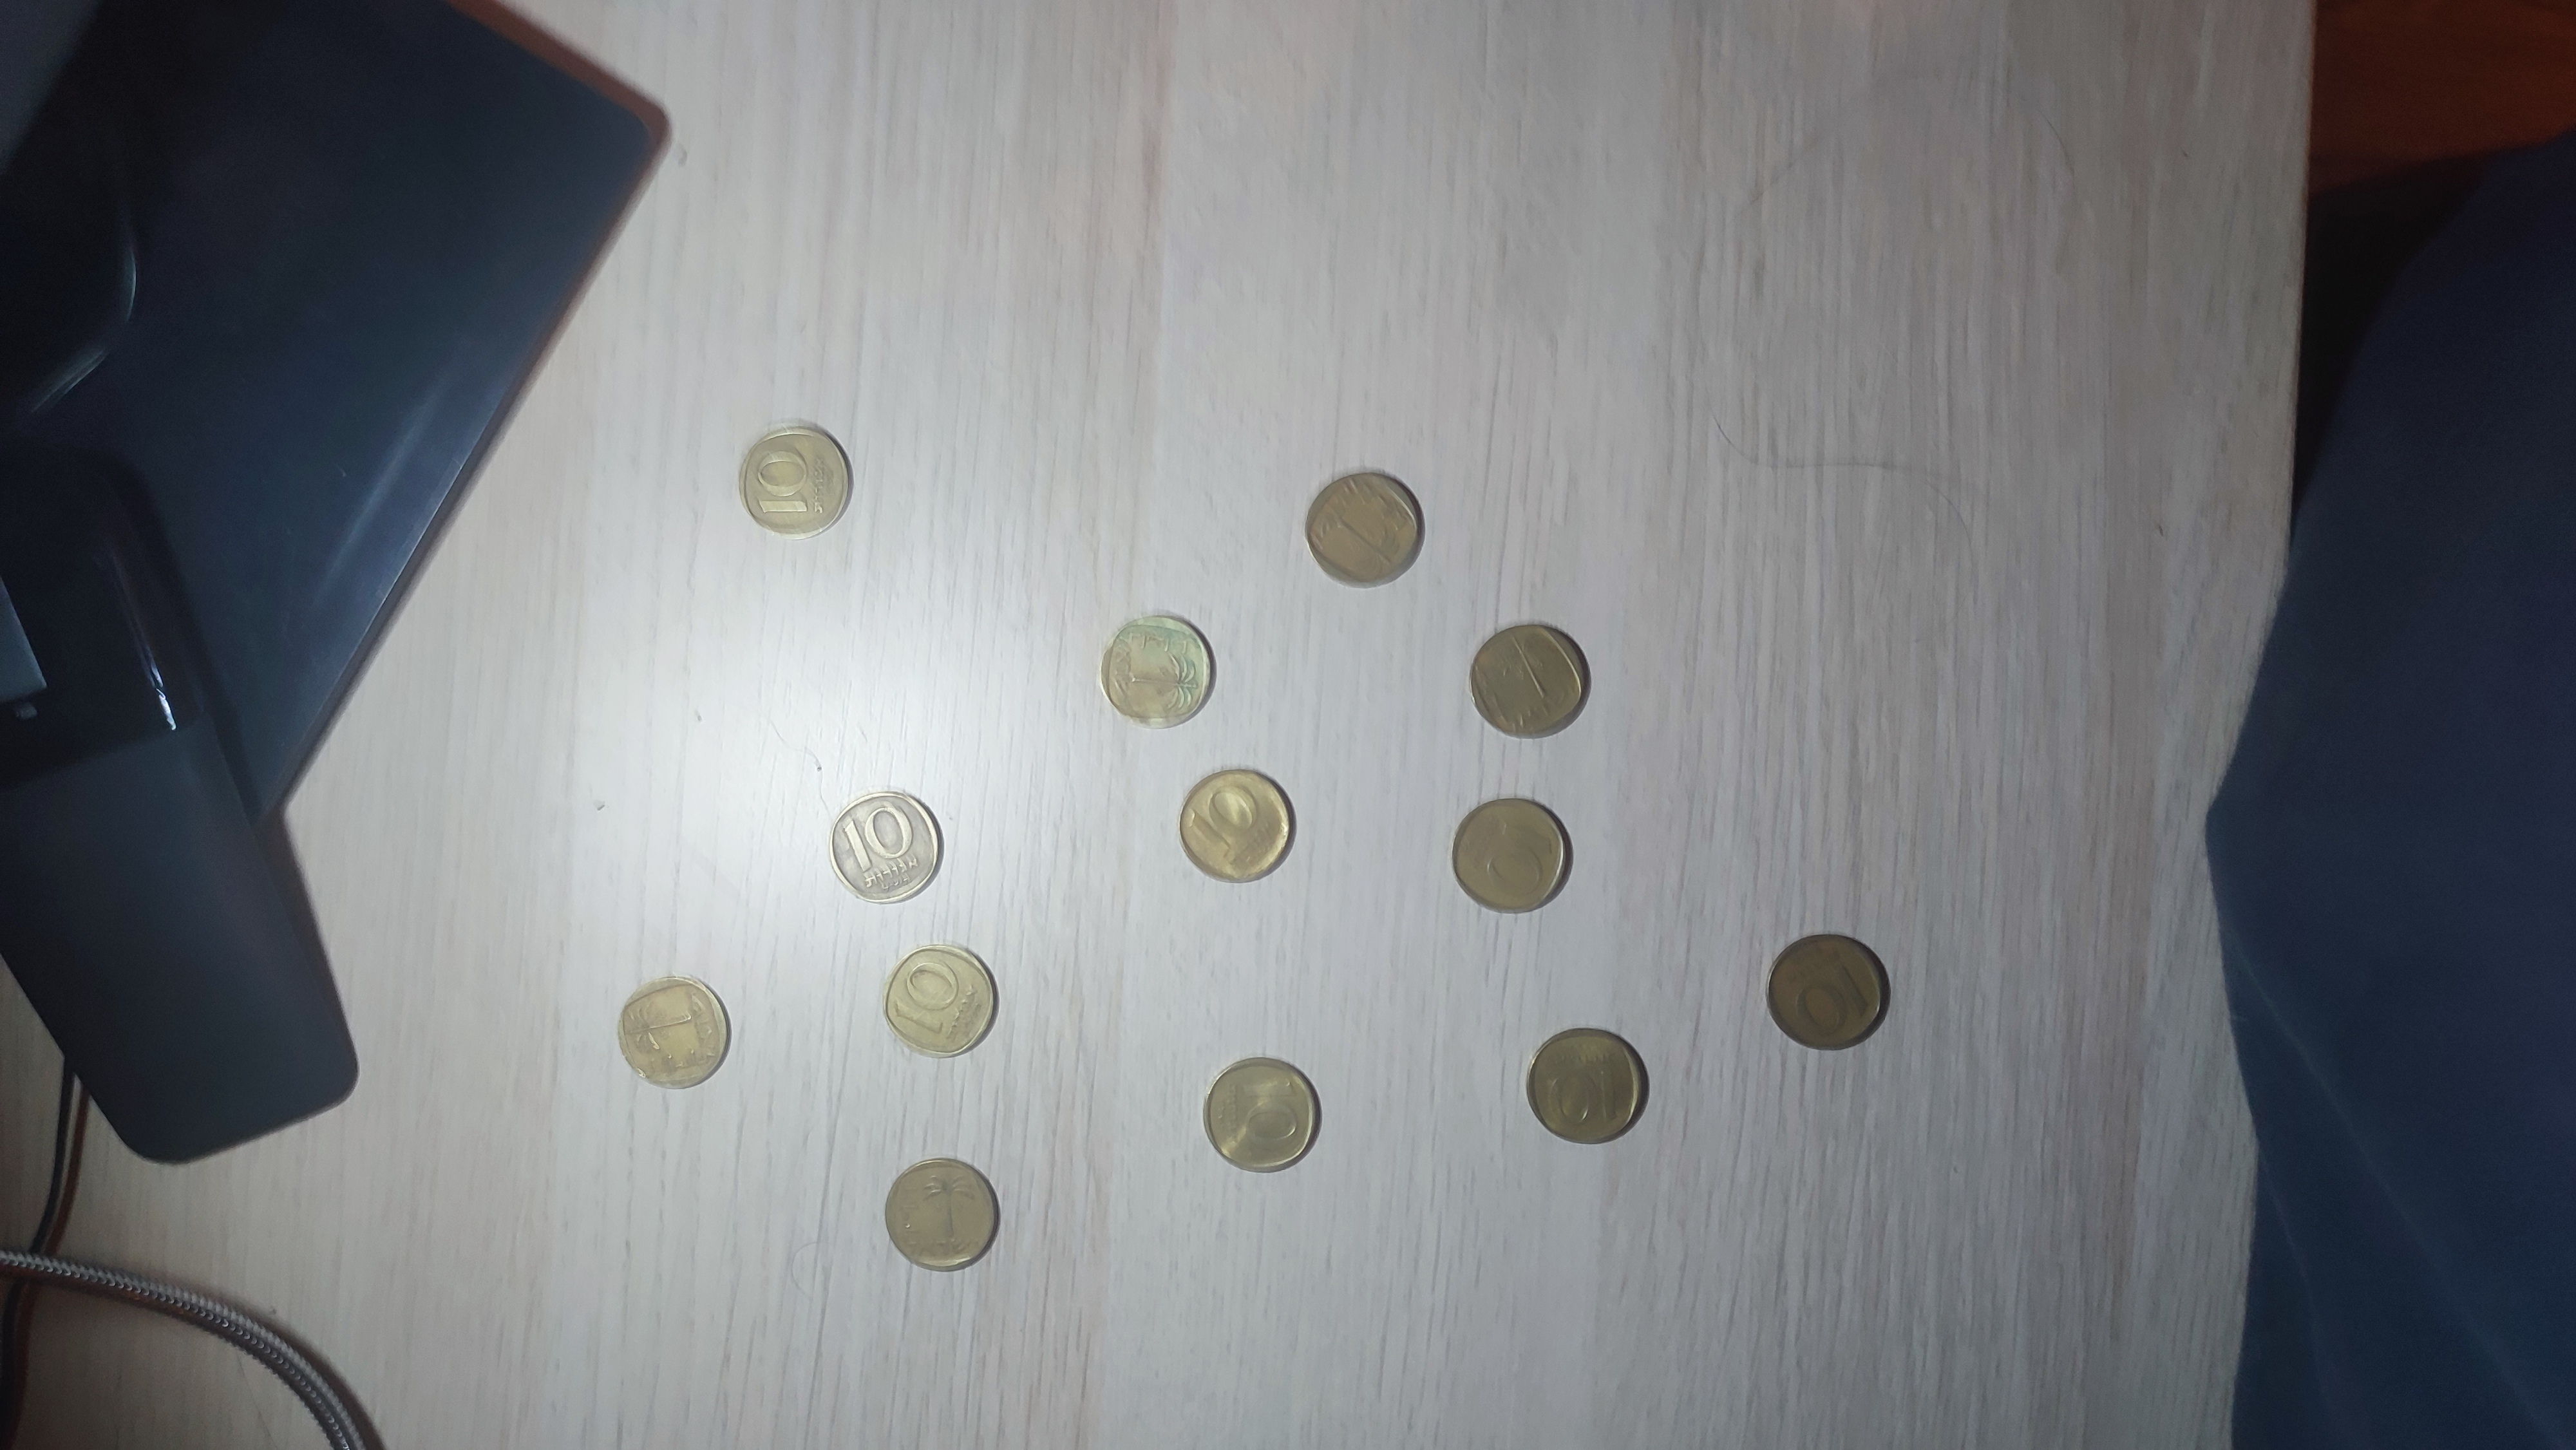10 old agora brown: (1766, 934, 1886, 1052), (1304, 472, 1422, 589), (1451, 796, 1568, 914), (1470, 624, 1589, 739), (881, 943, 996, 1059), (1525, 1027, 1640, 1144), (1203, 1057, 1318, 1172), (1099, 614, 1212, 730), (1178, 769, 1292, 884), (885, 1158, 998, 1273), (828, 790, 941, 904), (738, 424, 849, 539), (616, 974, 727, 1089)
